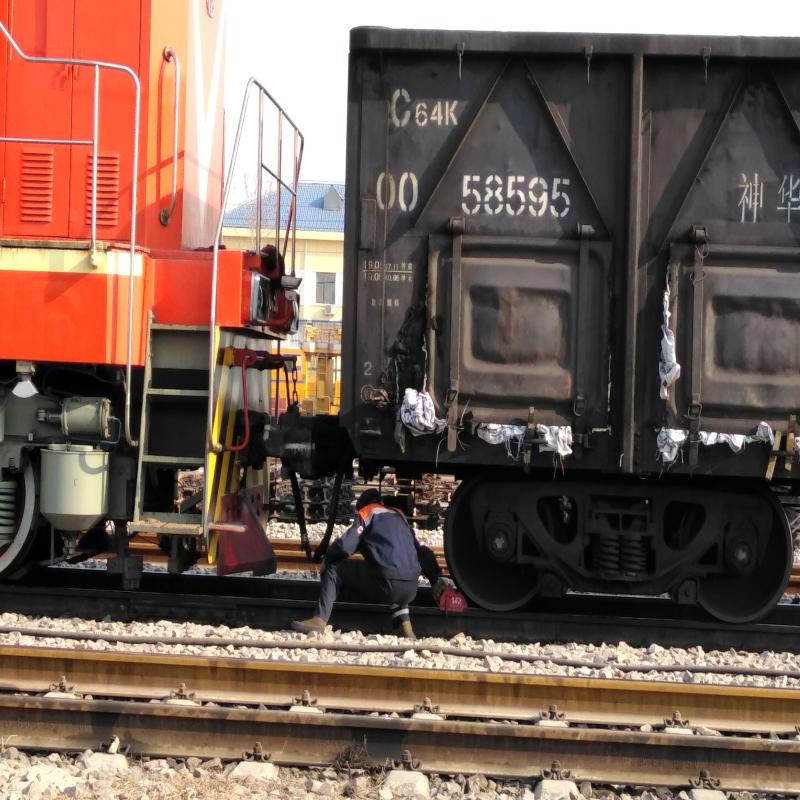train: (339, 26, 800, 584), (12, 62, 277, 575)
